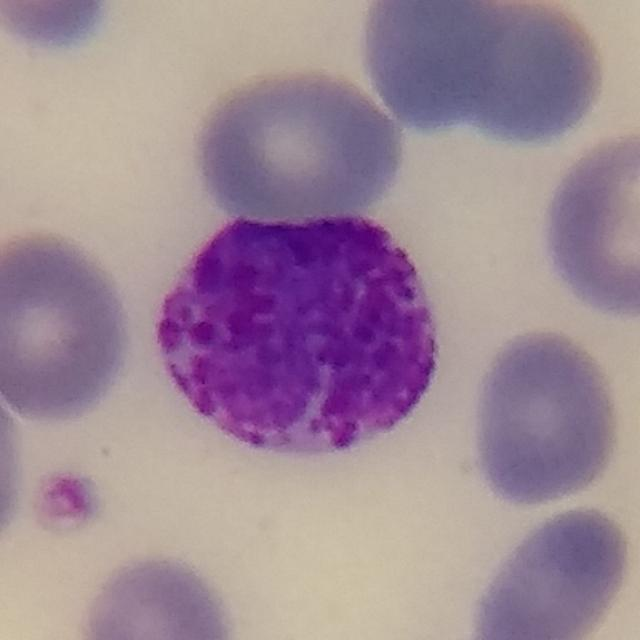baso: (142, 203, 452, 465)
